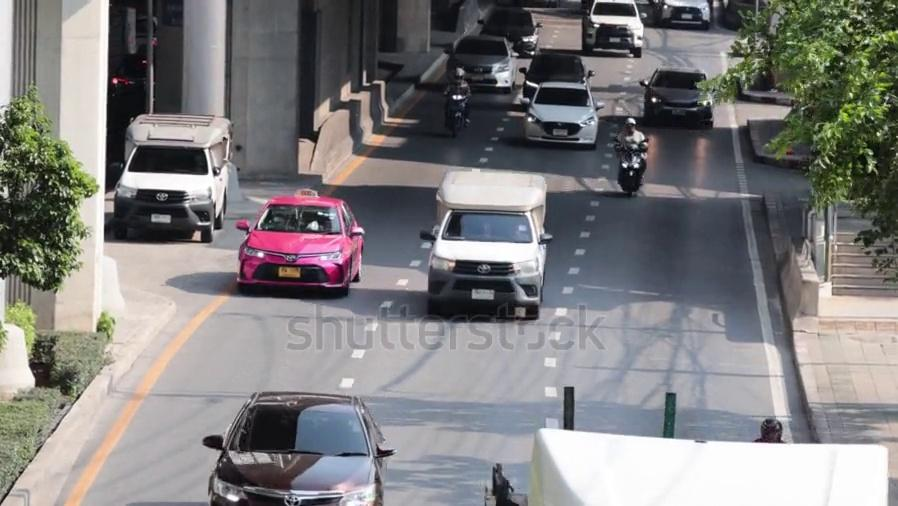rider: (614, 117, 648, 184), (444, 69, 469, 136)
with_helmate: (622, 118, 638, 134), (452, 68, 464, 79)
